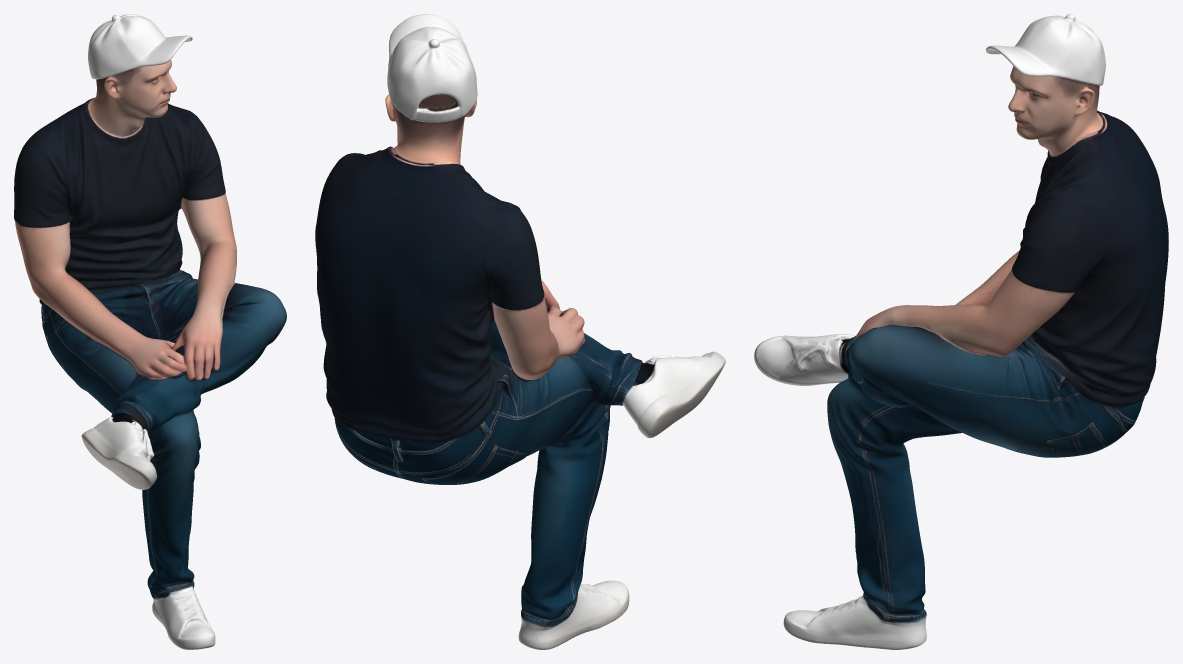
The model's file is crossed-leg_casual_portrait.glb.
The picture shows the model from 3 angles, left to right: view 1: azimuth 30°, elevation 25°; view 2: azimuth 150°, elevation 25°; view 3: azimuth 270°, elevation 25°; orthographic projection. The views are drawn at different scales.
Parts seen in each view (by area): view 1: Object_5, Object_6, Object_7; view 2: Object_6, Object_5, Object_7; view 3: Object_6, Object_5, Object_7.
Part boxes in pixels (x1=…): Object_5: x1=53, y1=32, x2=286, y2=649; Object_6: x1=14, y1=14, x2=235, y2=403; Object_7: x1=46, y1=20, x2=235, y2=389; Object_6: x1=315, y1=15, x2=558, y2=484; Object_5: x1=389, y1=14, x2=725, y2=649; Object_7: x1=389, y1=14, x2=553, y2=460; Object_6: x1=922, y1=14, x2=1168, y2=457; Object_5: x1=754, y1=28, x2=1059, y2=649; Object_7: x1=984, y1=27, x2=1060, y2=455.
Bounding box in the file's own units: 0.7643 × 1.9 × 1.12.
Materials: 1 (1 with a texture image).
